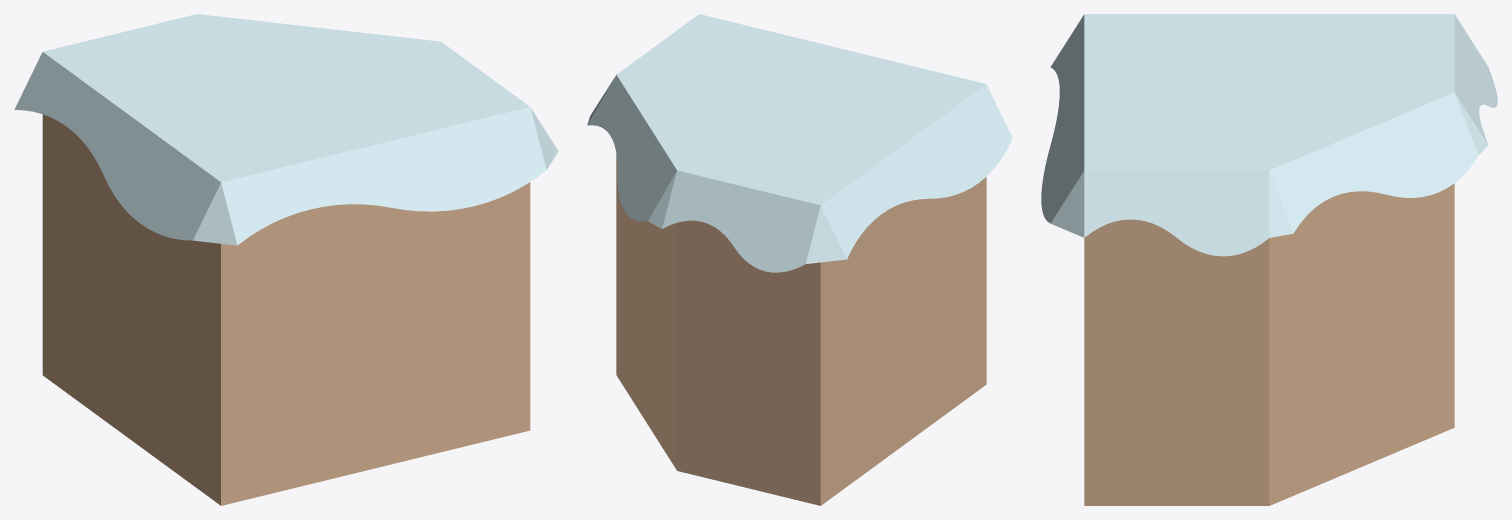
The model's file is blockSnowCornerSmall.glb.
3 renders of one model, left to right at view 1: azimuth 30°, elevation 25°; view 2: azimuth 150°, elevation 25°; view 3: azimuth 270°, elevation 25°, orthographic. The views are drawn at different scales.
Parts seen in each view (by area): view 1: blockSnowCornerSmall; view 2: blockSnowCornerSmall; view 3: blockSnowCornerSmall.
Boxes of the visible parts, x1=… form: blockSnowCornerSmall: x1=14, y1=14, x2=558, y2=505; blockSnowCornerSmall: x1=587, y1=14, x2=1012, y2=505; blockSnowCornerSmall: x1=1041, y1=14, x2=1497, y2=505.
Bounding box in the file's own units: 1.23 × 1 × 1.23.
